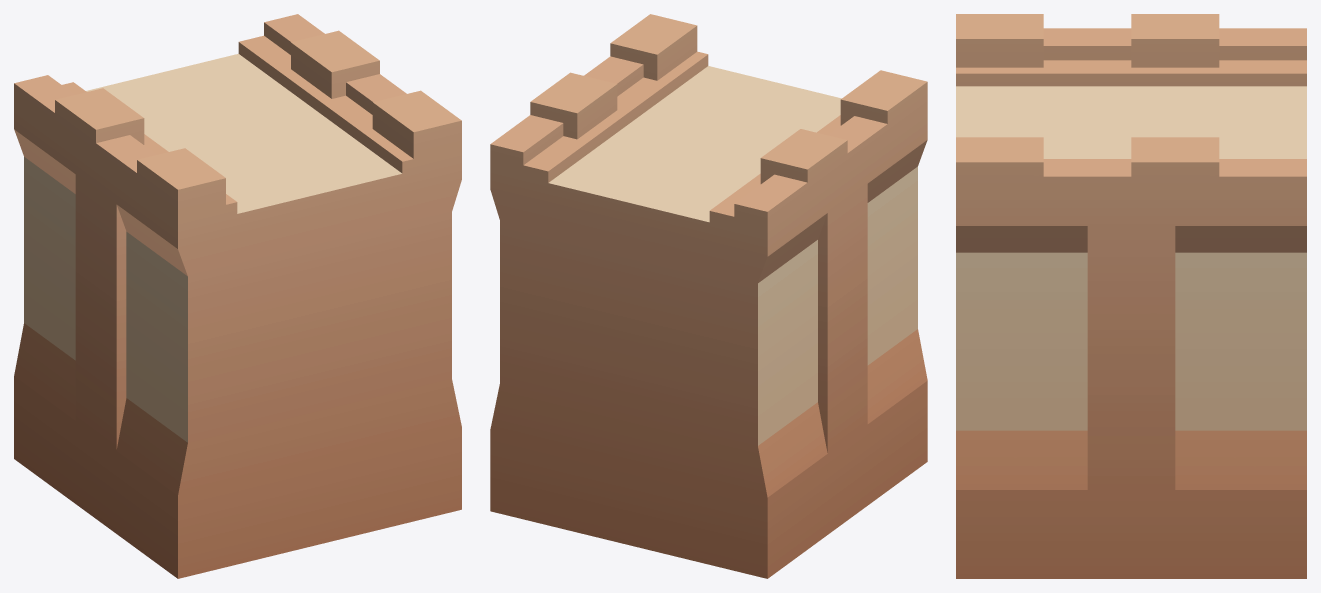
File: wall-pillar.glb
3 views of the same model, side by side, from view 1: azimuth 30°, elevation 25°; view 2: azimuth 150°, elevation 25°; view 3: azimuth 270°, elevation 25° (orthographic). The views are drawn at different scales.
Parts seen in each view (by area): view 1: wall-pillar; view 2: wall-pillar; view 3: wall-pillar.
Part boxes in pixels (x1,y1,x2,y2): wall-pillar: [14, 14, 461, 578]; wall-pillar: [490, 14, 927, 578]; wall-pillar: [956, 14, 1306, 578].
Size of the model in its own units: 1 by 1.31 by 1.
Materials: 1 (1 with a texture image).
